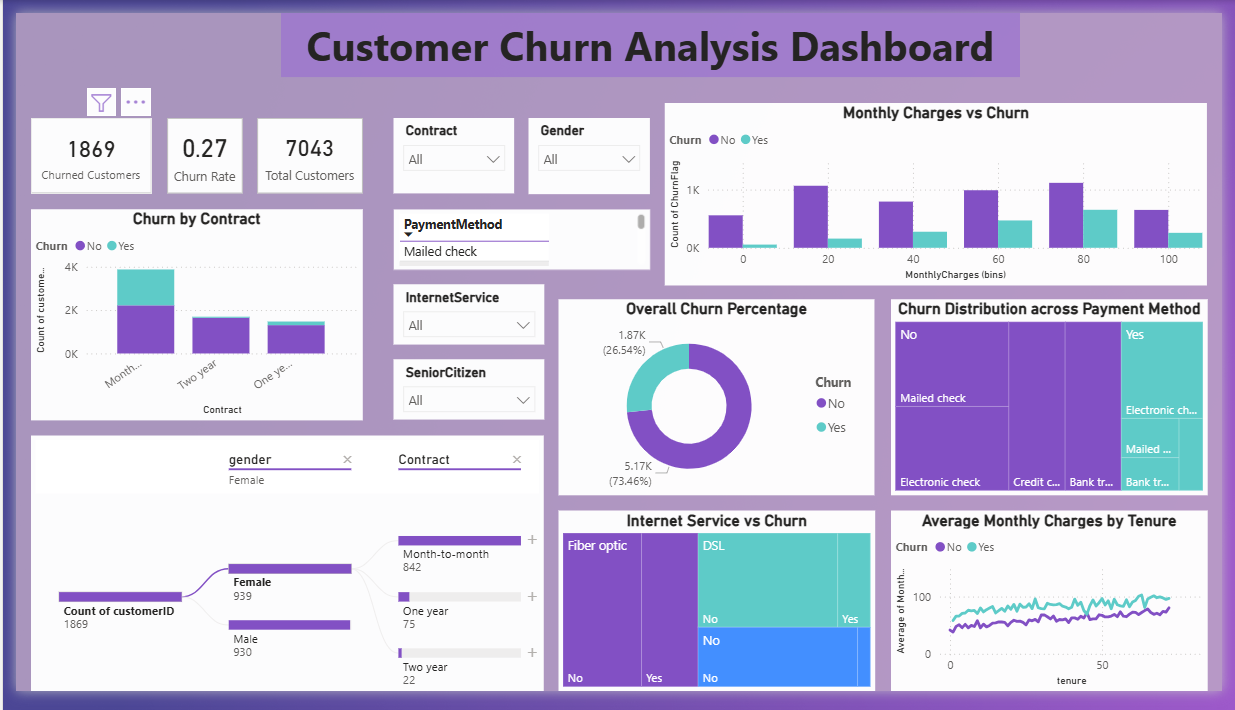

This screenshot's page, from the dashboard's own definition file:
{"tool":"powerbi","page":{"name":"Churn Analysis","canvas":[1280,720],"ordinal":0},"visuals":[{"type":"card","fields":{"Values":["WA_Fn-UseC_-Telco-Customer-Churn.Total Customers"]},"box":[256,112,112,80],"z":0},{"type":"card","fields":{"Values":["WA_Fn-UseC_-Telco-Customer-Churn.Churned Customers"]},"box":[16,112,128,80],"z":1000},{"type":"card","fields":{"Values":["WA_Fn-UseC_-Telco-Customer-Churn.Churn Rate"]},"box":[160,112,80,80],"z":2000},{"type":"columnChart","title":"Churn by Contract","fields":{"Category":["WA_Fn-UseC_-Telco-Customer-Churn.Contract"],"Series":["WA_Fn-UseC_-Telco-Customer-Churn.Churn"],"Y":["CountNonNull(WA_Fn-UseC_-Telco-Customer-Churn.customerID)"]},"box":[16,208,352,224],"z":3000},{"type":"donutChart","title":"Overall Churn Percentage","fields":{"Category":["WA_Fn-UseC_-Telco-Customer-Churn.Churn"],"Y":["CountNonNull(WA_Fn-UseC_-Telco-Customer-Churn.customerID)"]},"box":[575.5,303.7,335.5,208.2],"z":4000},{"type":"clusteredColumnChart","title":"Monthly Charges vs Churn","fields":{"Category":["WA_Fn-UseC_-Telco-Customer-Churn.MonthlyCharges (bins)"],"Series":["WA_Fn-UseC_-Telco-Customer-Churn.Churn"],"Y":["CountNonNull(WA_Fn-UseC_-Telco-Customer-Churn.ChurnFlag)"]},"box":[688.3,95.5,575.5,193.6],"z":5000},{"type":"treemap","title":"Churn Distribution across Payment Method","fields":{"Details":["WA_Fn-UseC_-Telco-Customer-Churn.PaymentMethod"],"Values":["CountNonNull(WA_Fn-UseC_-Telco-Customer-Churn.customerID)"],"Group":["WA_Fn-UseC_-Telco-Customer-Churn.Churn"]},"box":[928,304,336,208],"z":6000},{"type":"decompositionTreeVisual","fields":{"Analyze":["CountNonNull(WA_Fn-UseC_-Telco-Customer-Churn.customerID)"],"ExplainBy":["WA_Fn-UseC_-Telco-Customer-Churn.gender","WA_Fn-UseC_-Telco-Customer-Churn.Contract","WA_Fn-UseC_-Telco-Customer-Churn.TechSupport","WA_Fn-UseC_-Telco-Customer-Churn.InternetService","WA_Fn-UseC_-Telco-Customer-Churn.PaymentMethod","WA_Fn-UseC_-Telco-Customer-Churn.SeniorCitizen"]},"box":[16,448,544,272],"z":7000},{"type":"lineChart","title":"Average  Monthly Charges by Tenure","fields":{"Y":["Avg(WA_Fn-UseC_-Telco-Customer-Churn.MonthlyCharges)"],"Category":["WA_Fn-UseC_-Telco-Customer-Churn.tenure"],"Series":["WA_Fn-UseC_-Telco-Customer-Churn.Churn"]},"box":[928,528,336,192],"z":8000},{"type":"treemap","title":"Internet Service vs Churn","fields":{"Group":["WA_Fn-UseC_-Telco-Customer-Churn.InternetService"],"Details":["WA_Fn-UseC_-Telco-Customer-Churn.Churn"],"Values":["CountNonNull(WA_Fn-UseC_-Telco-Customer-Churn.customerID)"]},"box":[576,528,336,192],"z":9000},{"type":"slicer","fields":{"Values":["WA_Fn-UseC_-Telco-Customer-Churn.gender"]},"box":[543.7,111.4,128.6,80.9],"z":10000},{"type":"slicer","fields":{"Values":["WA_Fn-UseC_-Telco-Customer-Churn.SeniorCitizen"]},"box":[400,368,160,64],"z":11000},{"type":"slicer","fields":{"Values":["WA_Fn-UseC_-Telco-Customer-Churn.Contract"]},"box":[400,112,128,80],"z":12000},{"type":"tableEx","fields":{"Values":["WA_Fn-UseC_-Telco-Customer-Churn.PaymentMethod"]},"box":[400,208,272,64],"z":13000},{"type":"slicer","fields":{"Values":["WA_Fn-UseC_-Telco-Customer-Churn.InternetService"]},"box":[400,288,160,64],"z":14000},{"type":"textbox","box":[281.1,0,783.8,67.6],"z":15000}]}

Visuals, with their boxes in screenshot pixels (x1, y1, x2, y2), scaled from the page's 1280x720 canvas onto the 1235x710 screenshot:
card - WA_Fn-UseC_-Telco-Customer-Churn.Total Customers: locate(247, 110, 355, 189)
card - WA_Fn-UseC_-Telco-Customer-Churn.Churned Customers: locate(15, 110, 139, 189)
card - WA_Fn-UseC_-Telco-Customer-Churn.Churn Rate: locate(154, 110, 232, 189)
"Churn by Contract" columnChart: locate(15, 205, 355, 426)
"Overall Churn Percentage" donutChart: locate(555, 299, 879, 505)
"Monthly Charges vs Churn" clusteredColumnChart: locate(664, 94, 1219, 285)
"Churn Distribution across Payment Method" treemap: locate(895, 300, 1220, 505)
decompositionTreeVisual - CountNonNull(WA_Fn-UseC_-Telco-Customer-Churn.customerID) x WA_Fn-UseC_-Telco-Customer-Churn.gender: locate(15, 442, 540, 709)
"Average  Monthly Charges by Tenure" lineChart: locate(895, 521, 1220, 709)
"Internet Service vs Churn" treemap: locate(556, 521, 880, 709)
slicer - WA_Fn-UseC_-Telco-Customer-Churn.gender: locate(525, 110, 649, 190)
slicer - WA_Fn-UseC_-Telco-Customer-Churn.SeniorCitizen: locate(386, 363, 540, 426)
slicer - WA_Fn-UseC_-Telco-Customer-Churn.Contract: locate(386, 110, 509, 189)
tableEx - WA_Fn-UseC_-Telco-Customer-Churn.PaymentMethod: locate(386, 205, 648, 268)
slicer - WA_Fn-UseC_-Telco-Customer-Churn.InternetService: locate(386, 284, 540, 347)
textbox: locate(271, 0, 1027, 67)
